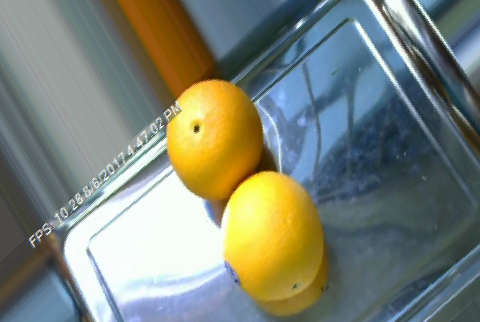Orange: (220, 170, 324, 299), (166, 78, 264, 201)
